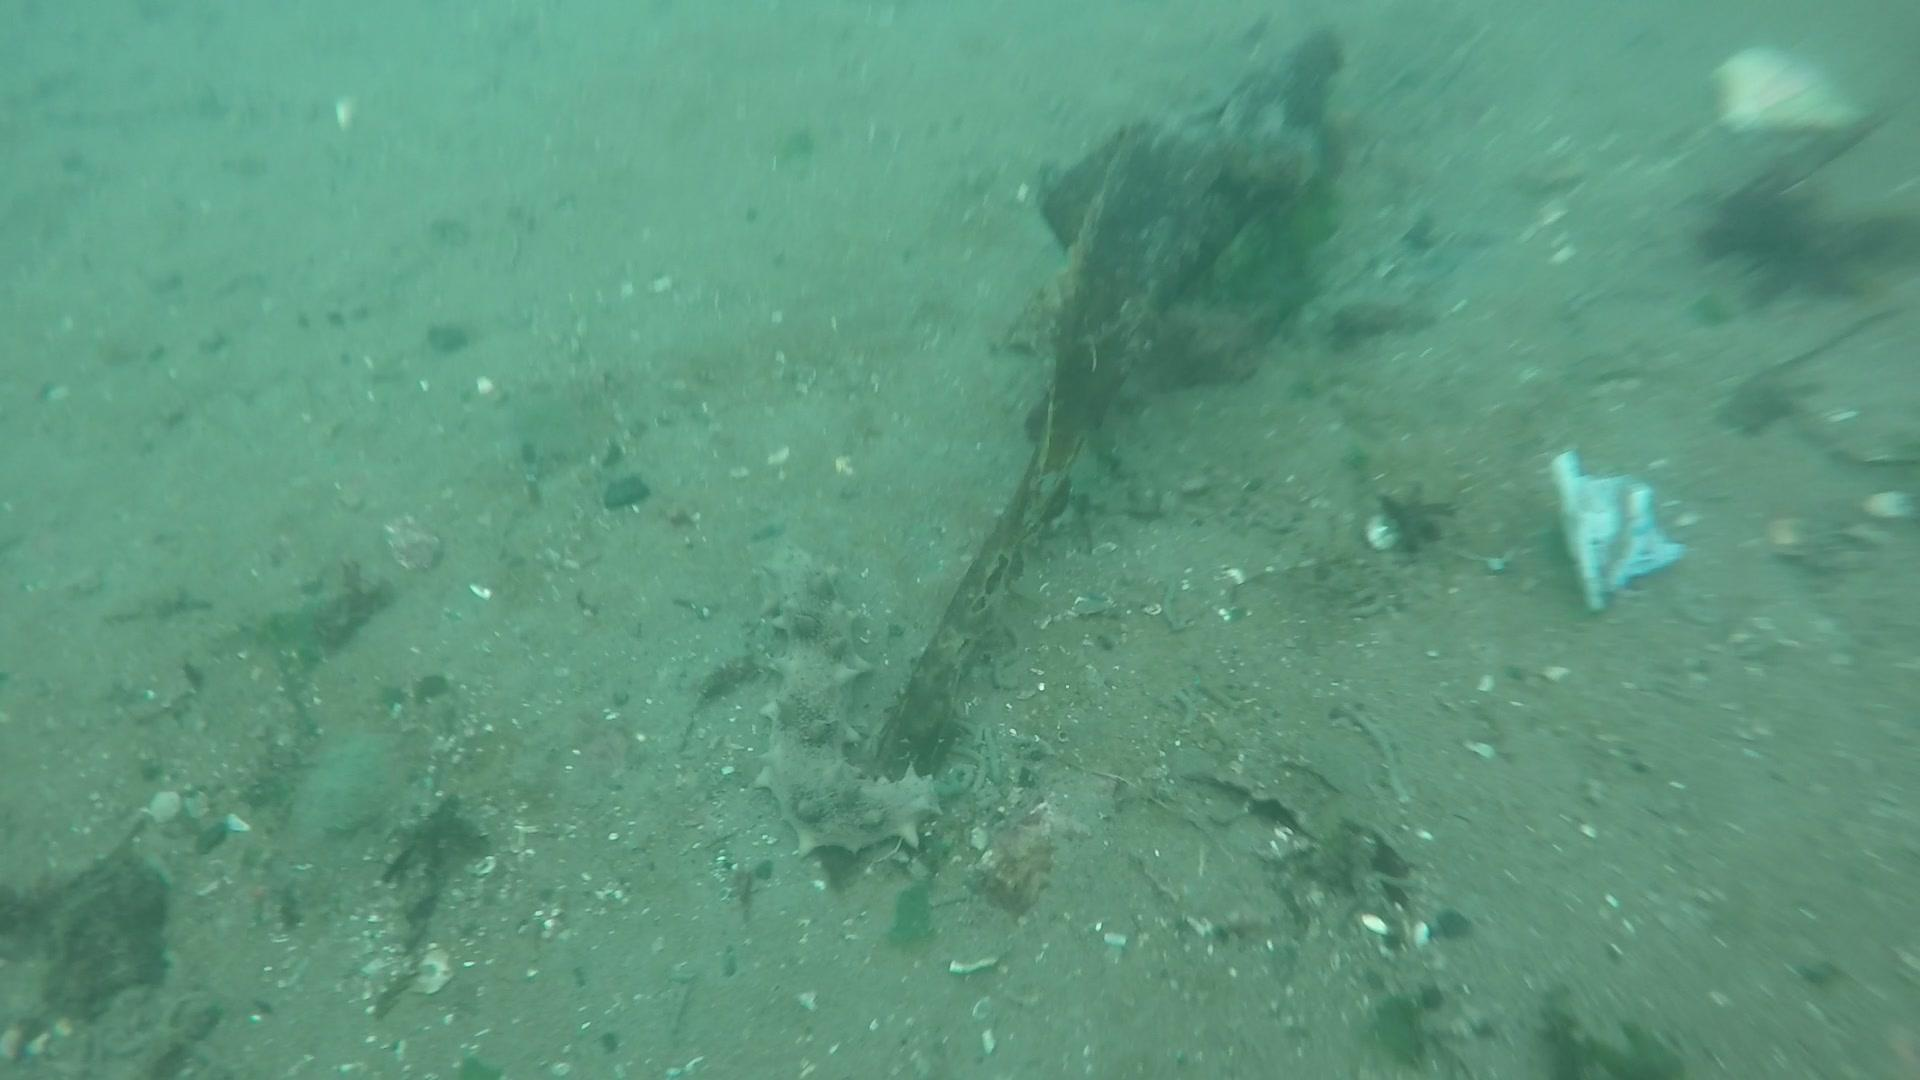holothurian: (756, 545, 945, 858)
